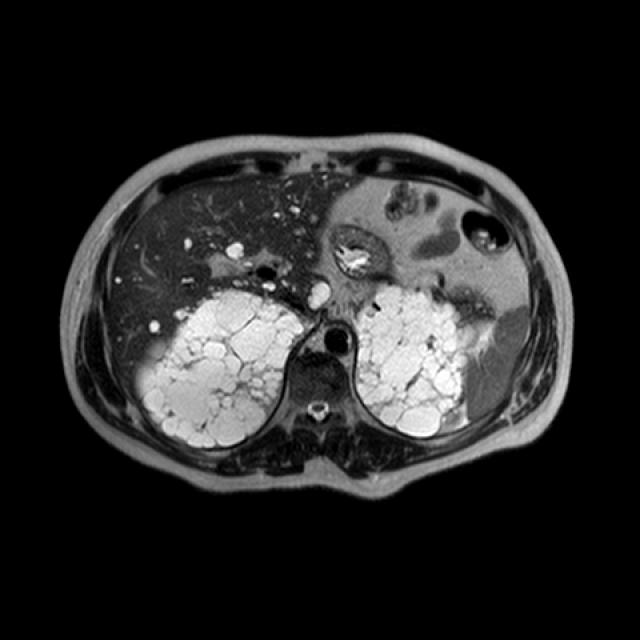sag: (137, 288, 308, 447)
sol: (355, 283, 481, 437)
